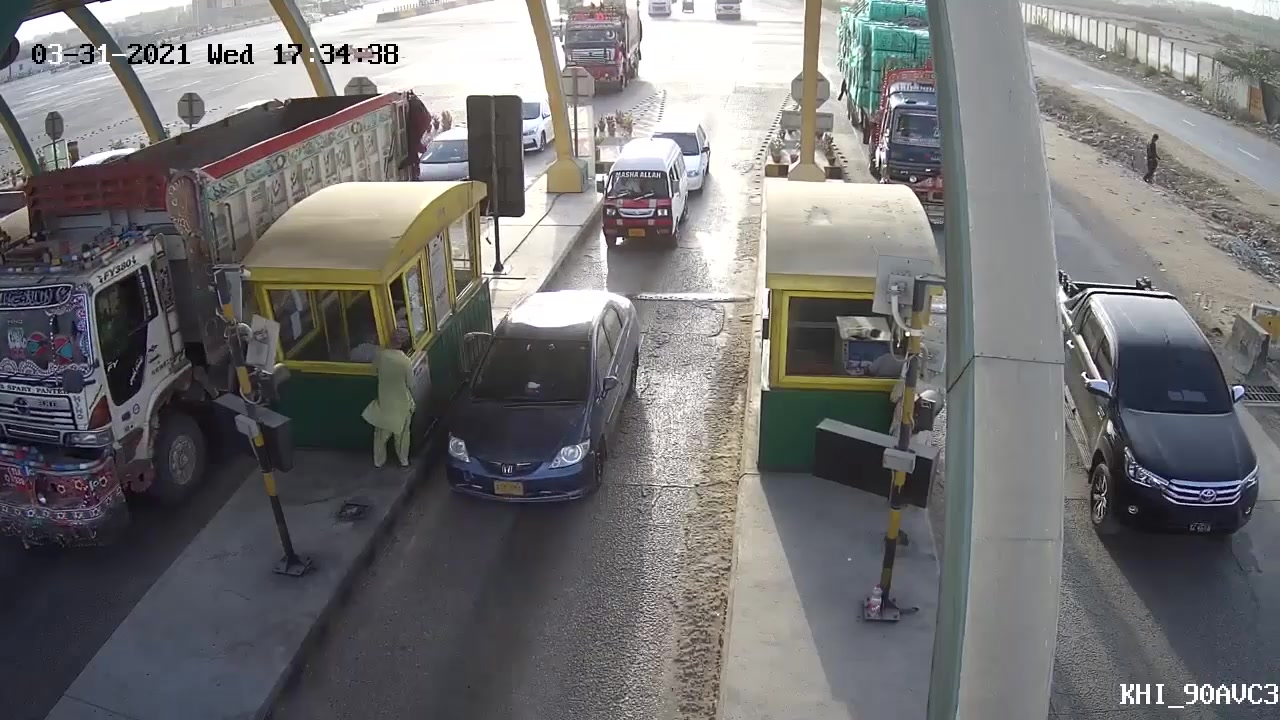F1: (427, 286, 650, 511)
